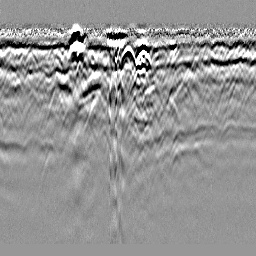cavity: (119, 44, 137, 69)
